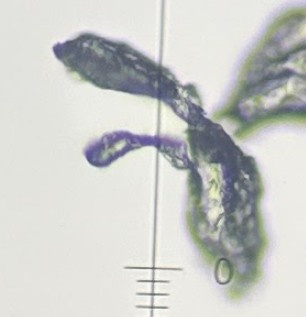microplastic: (52, 33, 269, 299), (211, 6, 306, 143)
